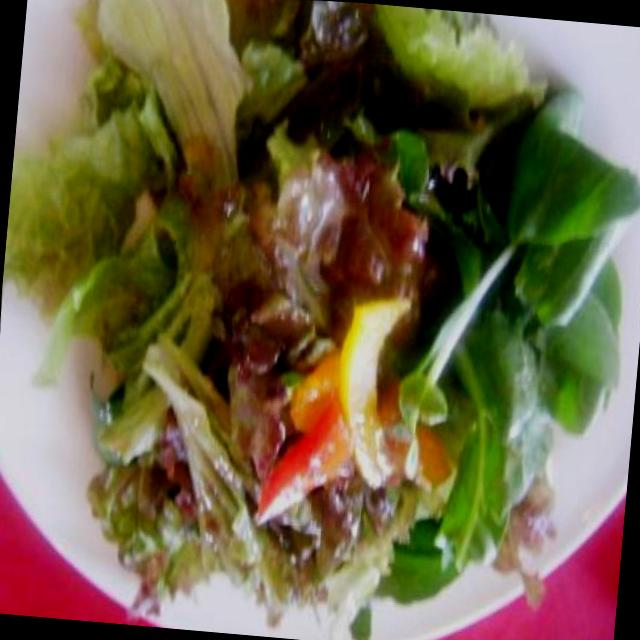Green Salad: (55, 9, 612, 635)
